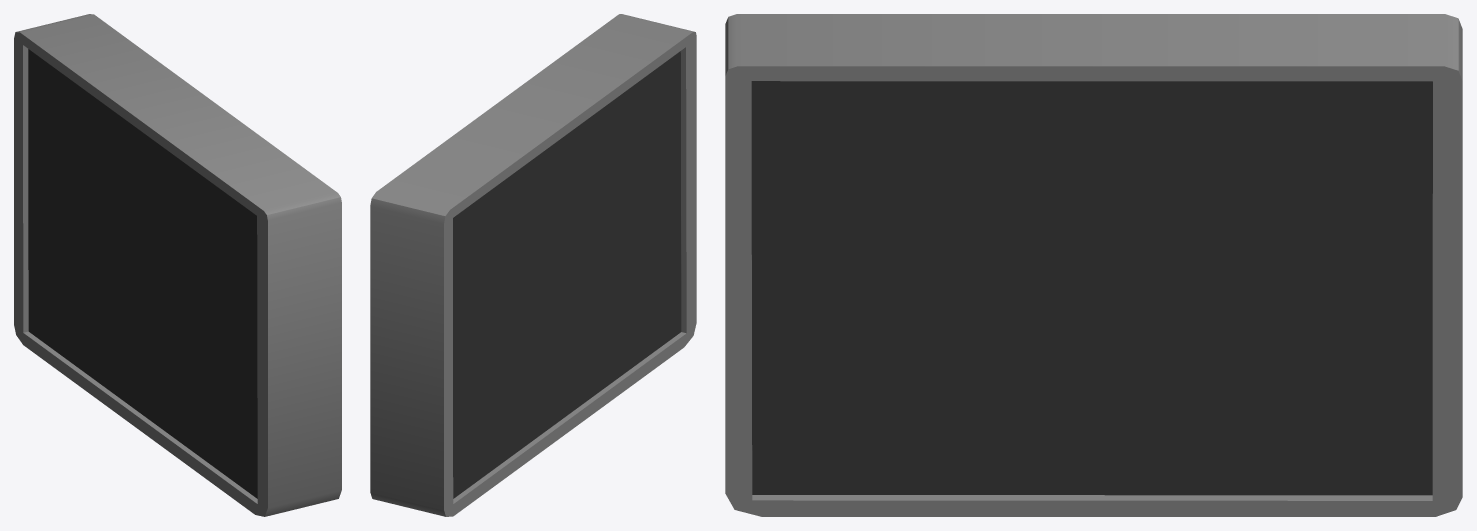
Rendered from MoveObject.fbx.
3 views of the same model, side by side, from view 1: azimuth 30°, elevation 25°; view 2: azimuth 150°, elevation 25°; view 3: azimuth 270°, elevation 25° (orthographic). The views are drawn at different scales.
Visible parts, largest first — view 1: Cube.005; view 2: Cube.005; view 3: Cube.005.
Part boxes in pixels (x1,y1,x2,y2): Cube.005: (14, 14, 341, 516); Cube.005: (370, 14, 696, 516); Cube.005: (725, 14, 1462, 516).
Bounding box in the file's own units: 3.77 × 15.08 × 22.37.
Materials: 1 (1 with a texture image).
